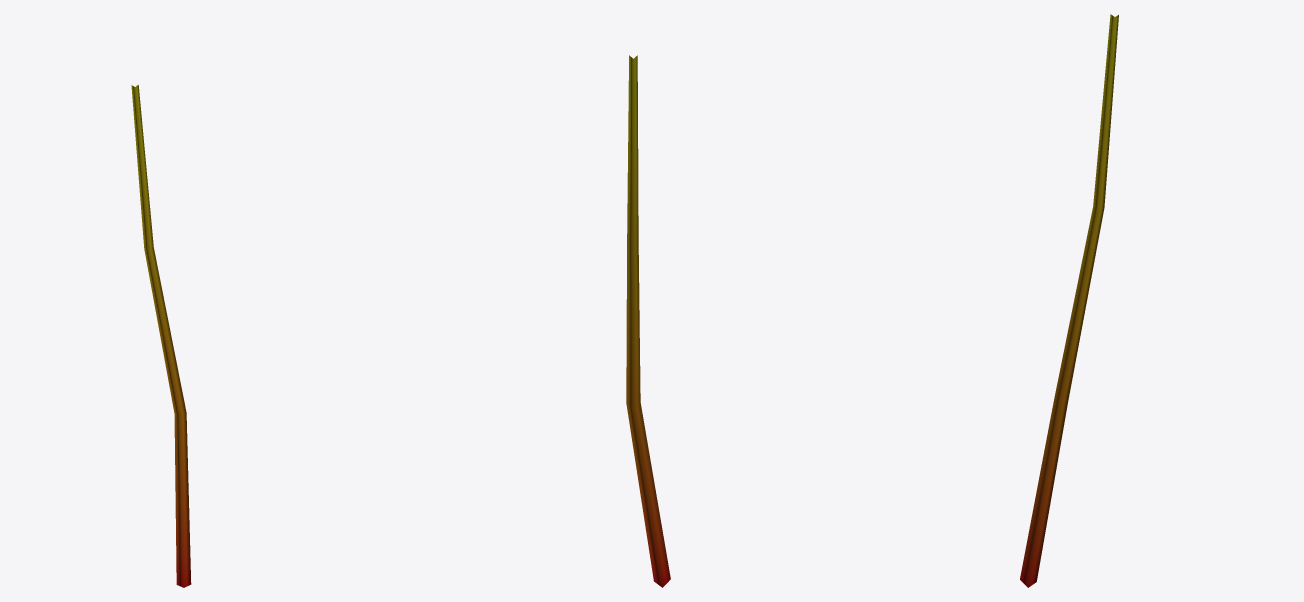
Rendered from nettle_b.glb.
The picture shows the model from 3 angles, left to right: view 1: azimuth 30°, elevation 25°; view 2: azimuth 150°, elevation 25°; view 3: azimuth 270°, elevation 25°; orthographic projection. The views are drawn at different scales.
Parts seen in each view (by area): view 1: LOD0; view 2: LOD0; view 3: LOD0.
Part boxes in pixels (<box>): LOD0: <box>131,84,191,587</box>; LOD0: <box>626,55,670,587</box>; LOD0: <box>1020,14,1118,587</box>.
Bounding box in the file's own units: 0.2673 × 0.3756 × 0.2571.
